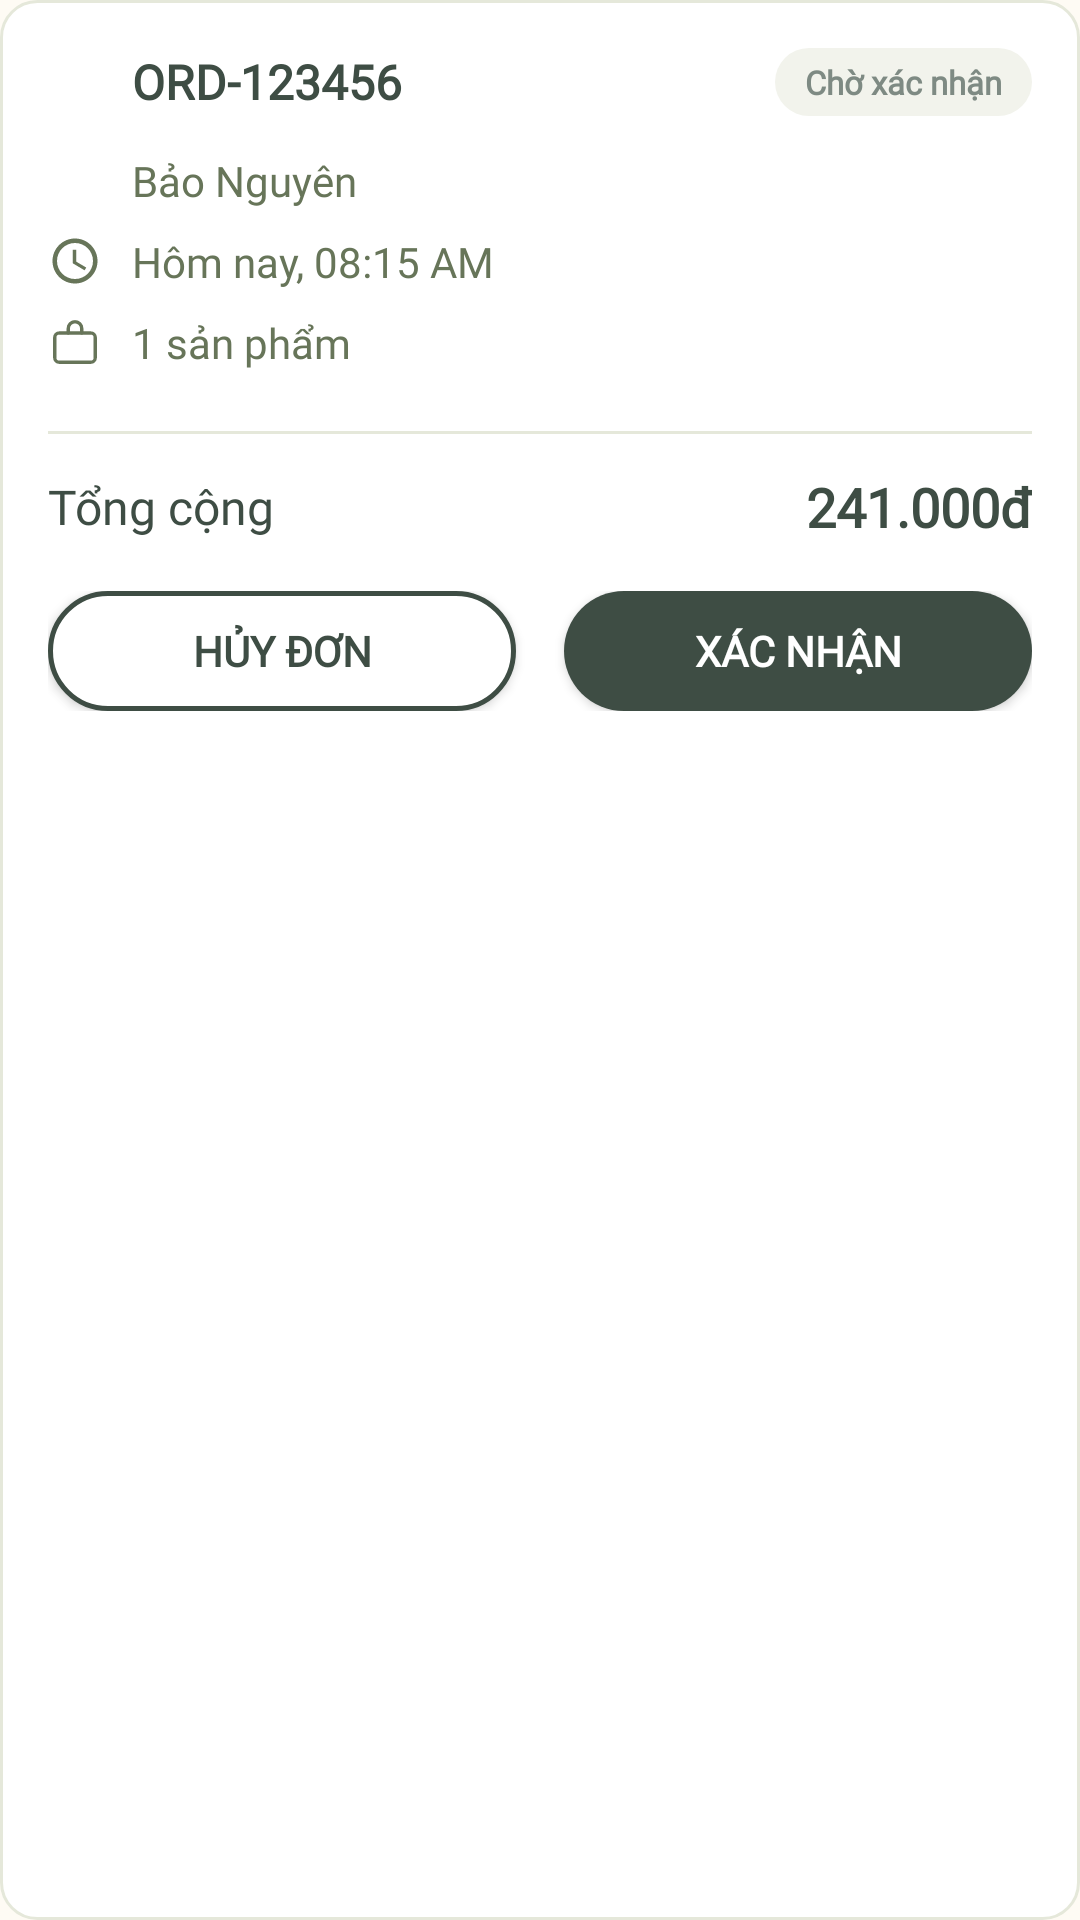

Where icons sit on this 1080x1920 app screen, as (x1, y1, x2, y2):
Thời gian: (52, 238, 98, 284)
